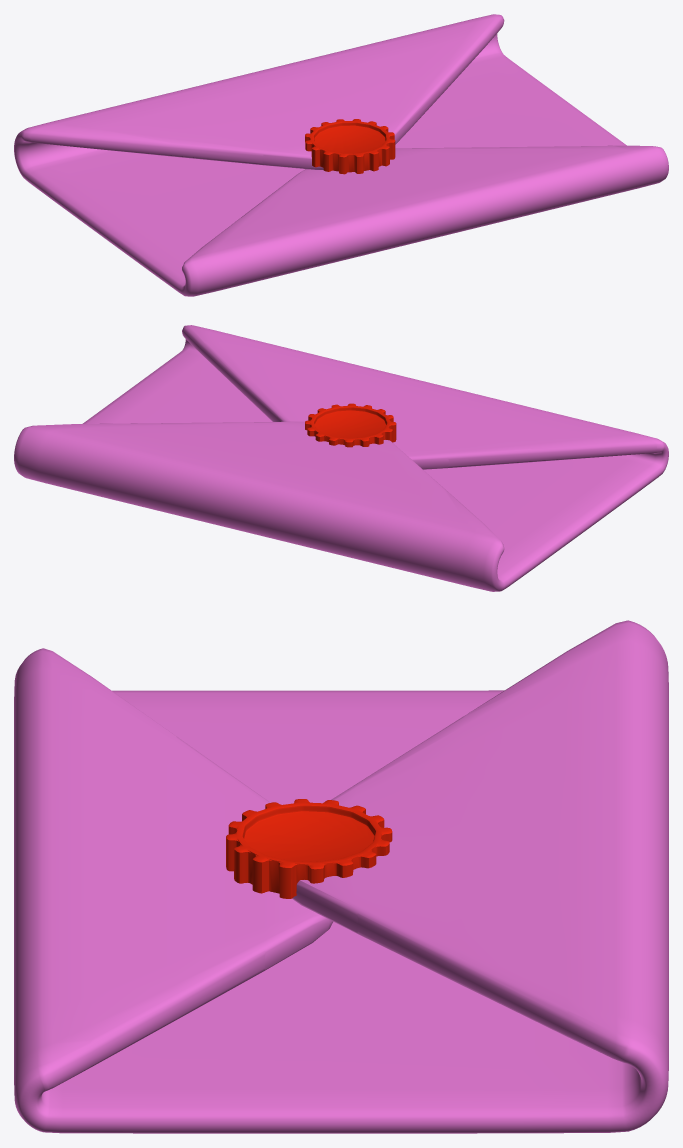
File: MAIL.fbx
3 renders of one model, top to bottom at view 1: azimuth 30°, elevation 25°; view 2: azimuth 150°, elevation 25°; view 3: azimuth 270°, elevation 25°, orthographic. The views are drawn at different scales.
Visible parts, largest first — view 1: Cube; view 2: Cube; view 3: Cube.
Boxes of the visible parts, bbox=[...] form: Cube: bbox=[14, 14, 668, 296]; Cube: bbox=[14, 325, 668, 591]; Cube: bbox=[14, 620, 668, 1133].
Bounding box in the file's own units: 54.11 × 5.68 × 34.91.
